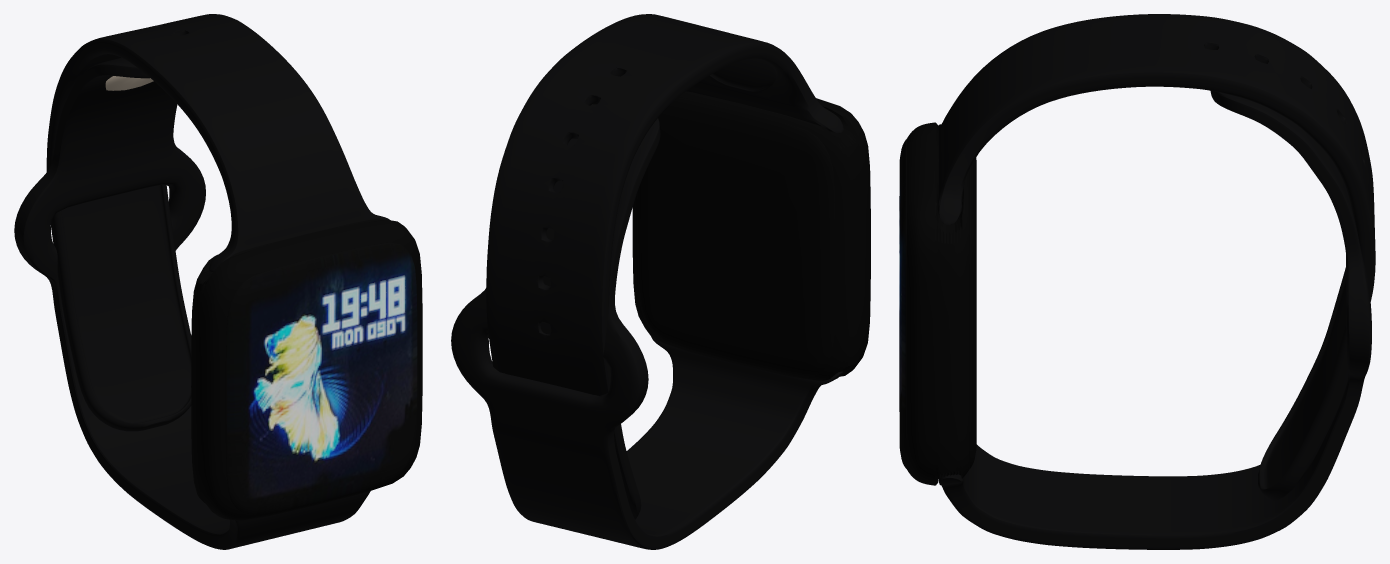
File: smartwatch.glb
3 renders of one model, left to right at view 1: azimuth 30°, elevation 25°; view 2: azimuth 150°, elevation 25°; view 3: azimuth 270°, elevation 25°, orthographic. The views are drawn at different scales.
Parts seen in each view (by area): view 1: Watch_2, BandTop_3, BandBot_4; view 2: Watch_2, BandTop_3, BandBot_4; view 3: BandTop_3, BandBot_4, Watch_2.
Boxes of the visible parts, x1,y1,x2,y2 form: Watch_2: (191,218,422,520); BandTop_3: (46,14,390,431); BandBot_4: (14,57,370,549); Watch_2: (632,91,870,380); BandTop_3: (486,14,843,519); BandBot_4: (451,104,843,549); BandTop_3: (938,14,1375,500); BandBot_4: (939,90,1371,549); Watch_2: (899,122,976,485).
Bounding box in the file's own units: 0.036 × 0.07 × 0.0631.
5 materials, 1 textured.
